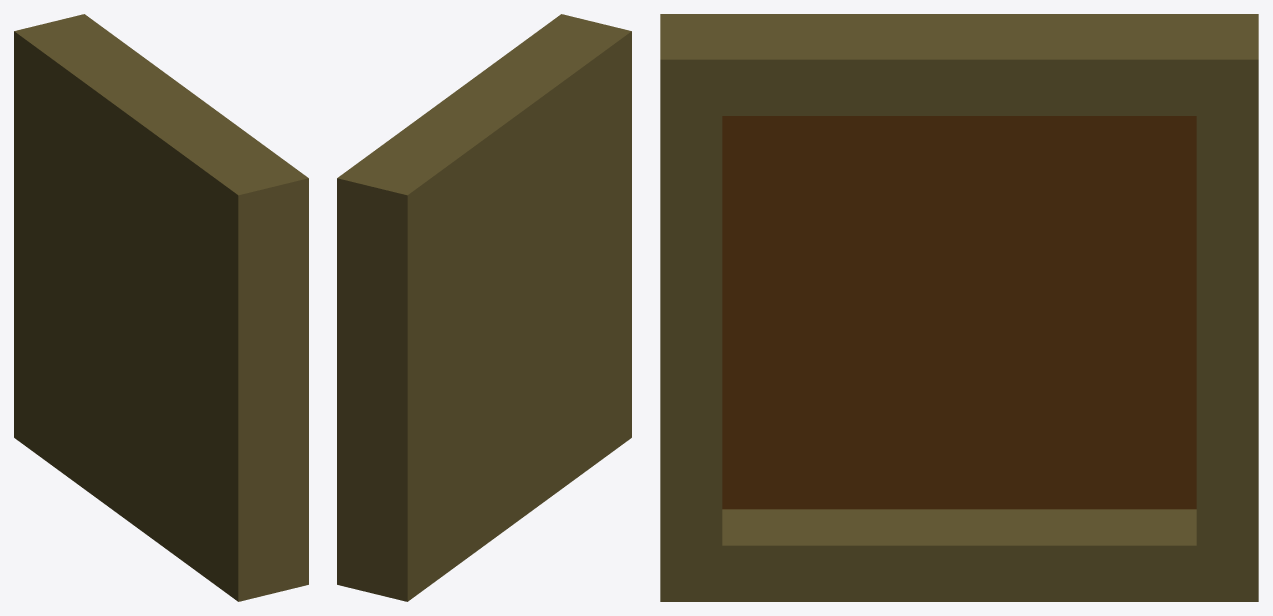
File: RoomKeyFrame.fbx
3 renders of one model, left to right at view 1: azimuth 30°, elevation 25°; view 2: azimuth 150°, elevation 25°; view 3: azimuth 270°, elevation 25°, orthographic. The views are drawn at different scales.
Parts seen in each view (by area): view 1: Cube; view 2: Cube; view 3: Cube.
Part boxes in pixels (left/top/right/bottom): Cube: left=14, top=14, right=308, bottom=601; Cube: left=337, top=14, right=631, bottom=601; Cube: left=660, top=14, right=1258, bottom=601.
Size of the model in its own units: 36.25 by 200 by 200.
